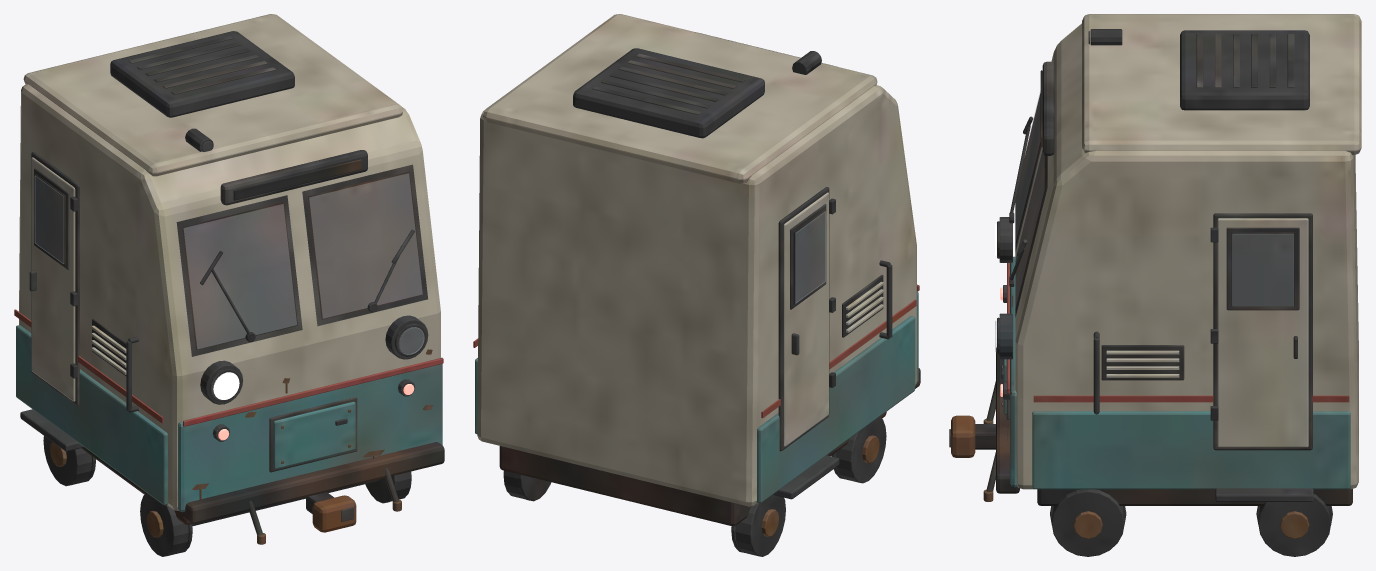
Rendered from RE04_train_front_cab.glb.
3 views of the same model, side by side, from view 1: azimuth 30°, elevation 25°; view 2: azimuth 150°, elevation 25°; view 3: azimuth 270°, elevation 25° (orthographic). The views are drawn at different scales.
Visible parts, largest first — view 1: Cream enamel cab shell; view 2: Cream enamel cab shell; view 3: Cream enamel cab shell.
Part boxes in pixels (x1=…): Cream enamel cab shell: x1=14, y1=14, x2=444, y2=556; Cream enamel cab shell: x1=473, y1=14, x2=920, y2=556; Cream enamel cab shell: x1=949, y1=14, x2=1361, y2=556.
Size of the model in its own units: 3.1 by 4 by 3.43.
10 materials, 7 textured.
